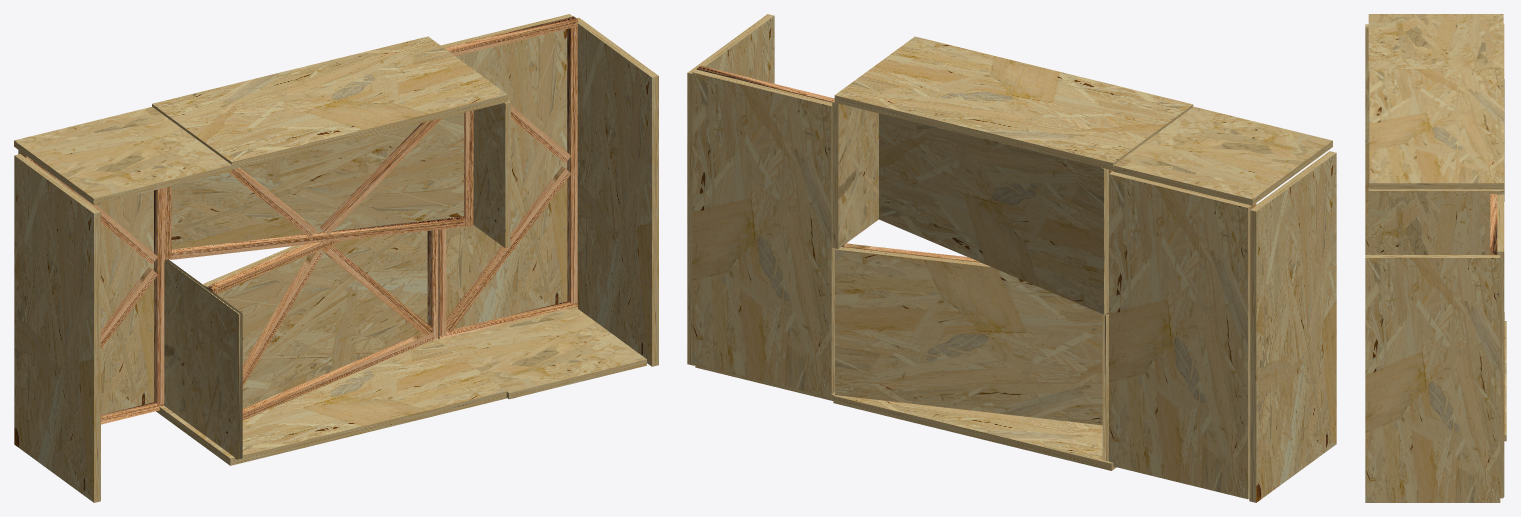
The model's file is krail_shading.obj.
3 views of the same model, side by side, from view 1: azimuth 30°, elevation 25°; view 2: azimuth 150°, elevation 25°; view 3: azimuth 270°, elevation 25° (orthographic). The views are drawn at different scales.
Parts seen in each view (by area): view 1: Cube.035, Cube.034, Cube.017, Cube, Cube.018, Cube.013, Cube.016, Cube.032, Cube.015, Cube.033, Cube.031, Cube.008 (+9 smaller); view 2: Cube.018, Cube.031, Cube.013, Cube, Cube.035, Cube.017, Cube.032, Cube.016, Cube.014, Cube.034, Cube.015, Cube.019; view 3: Cube.034, Cube.017, Cube.014, Cube.032, Cube.018, Cube.035, Cube.019, Cube.016.
Part boxes in pixels (<box>): Cube.035: <box>14,154,100,502</box>; Cube.034: <box>577,17,658,366</box>; Cube.017: <box>152,36,507,169</box>; Cube: <box>171,113,463,249</box>; Cube.018: <box>441,14,572,330</box>; Cube.013: <box>201,231,427,408</box>; Cube.016: <box>156,339,506,465</box>; Cube.032: <box>14,107,231,204</box>; Cube.015: <box>164,259,242,459</box>; Cube.033: <box>436,306,646,399</box>; Cube.031: <box>18,150,153,414</box>; Cube.008: <box>207,229,438,420</box>; Cube.018: <box>692,69,835,397</box>; Cube.031: <box>1109,171,1251,499</box>; Cube.013: <box>835,247,1103,425</box>; Cube: <box>879,113,1108,314</box>; Cube.035: <box>1249,151,1336,502</box>; Cube.017: <box>834,36,1193,170</box>; Cube.032: <box>1113,107,1332,205</box>; Cube.016: <box>833,395,1116,470</box>; Cube.014: <box>832,100,878,248</box>; Cube.034: <box>687,14,774,365</box>; Cube.015: <box>1102,312,1108,461</box>; Cube.019: <box>696,66,834,102</box>; Cube.034: <box>1365,255,1500,502</box>; Cube.017: <box>1369,69,1504,189</box>; Cube.014: <box>1368,188,1503,254</box>; Cube.032: <box>1368,14,1503,75</box>; Cube.018: <box>1497,194,1504,496</box>; Cube.035: <box>1365,24,1369,254</box>; Cube.019: <box>1490,194,1497,254</box>; Cube.016: <box>1504,321,1506,441</box>.
Size of the model in its own units: 8.17 by 4.22 by 2.09.
Materials: 21 (21 with a texture image).
